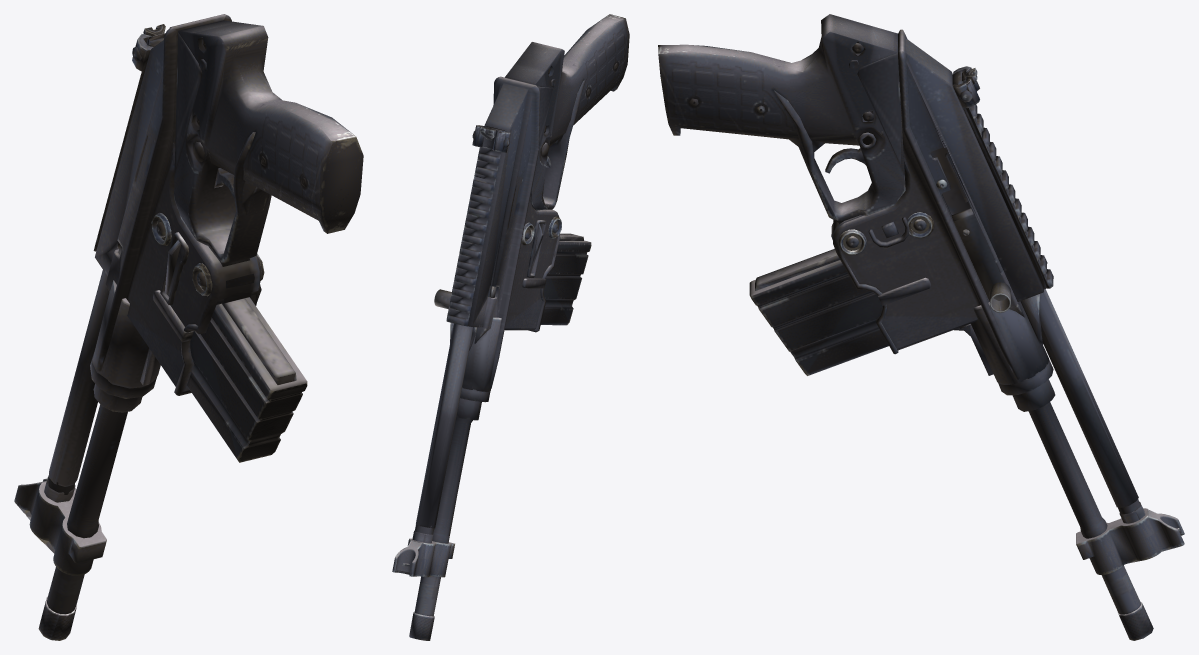
The model's file is PLR16Melee.fbx.
3 views of the same model, side by side, from view 1: azimuth 30°, elevation 25°; view 2: azimuth 150°, elevation 25°; view 3: azimuth 270°, elevation 25° (orthographic). The views are drawn at different scales.
Parts seen in each view (by area): view 1: plr16; view 2: plr16; view 3: plr16.
Boxes of the visible parts, x1,y1,x2,y2 form: plr16: (14,14,363,640); plr16: (392,14,629,640); plr16: (658,14,1184,640).
Size of the model in its own units: 0.0321 by 0.252 by 0.1955.
